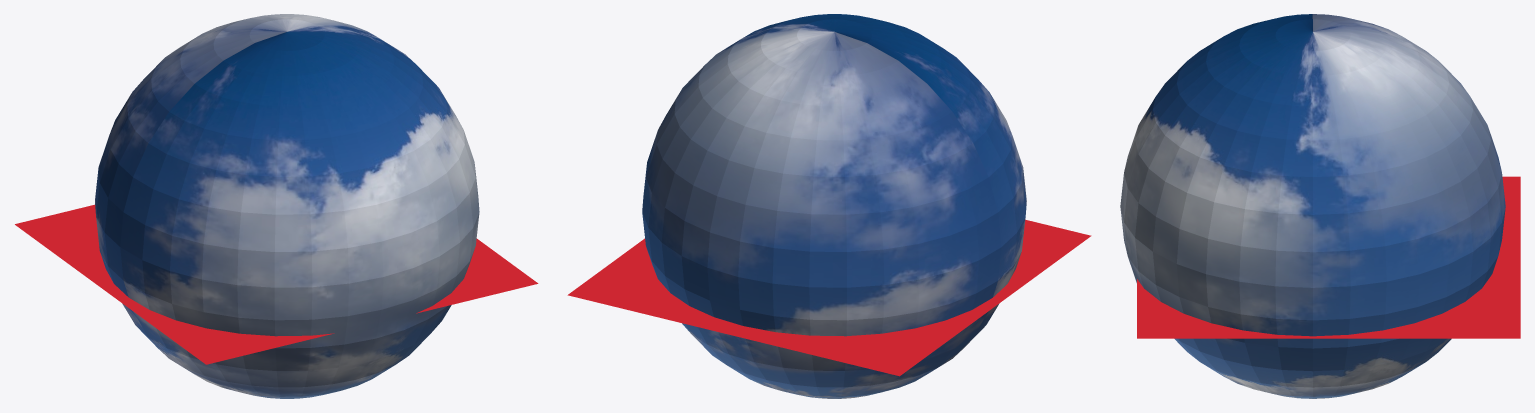
The model's file is test-zone2.glb.
3 renders of one model, left to right at view 1: azimuth 30°, elevation 25°; view 2: azimuth 150°, elevation 25°; view 3: azimuth 270°, elevation 25°, orthographic.
Parts seen in each view (by area): view 1: SkyBox.001, DeathPlane.001; view 2: SkyBox.001, DeathPlane.001; view 3: SkyBox.001, DeathPlane.001.
Part boxes in pixels (x1,y1,x2,y2): SkyBox.001: [95, 14, 479, 398]; DeathPlane.001: [15, 204, 538, 364]; SkyBox.001: [642, 14, 1026, 398]; DeathPlane.001: [567, 219, 1091, 376]; SkyBox.001: [1120, 14, 1505, 398]; DeathPlane.001: [1137, 176, 1520, 338].
Size of the model in its own units: 243 by 241 by 250.
Materials: 14 (13 with a texture image).
